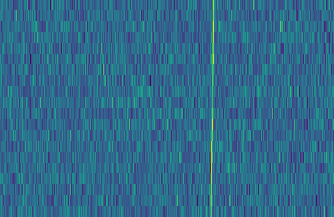signal: (207, 0, 218, 217)
